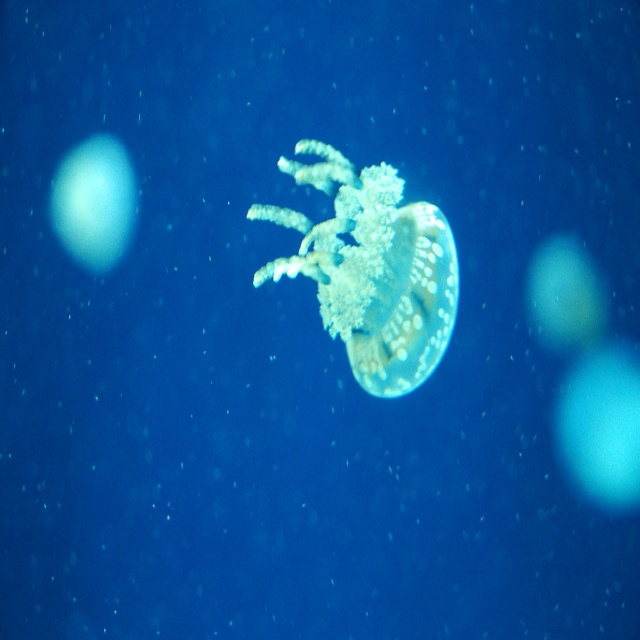Jellyfish: (252, 143, 465, 392)
